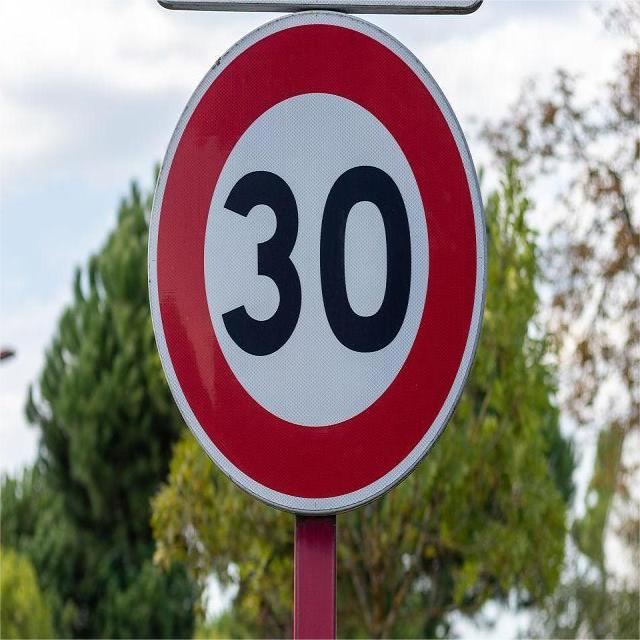speed limit 30: (144, 12, 488, 512)
